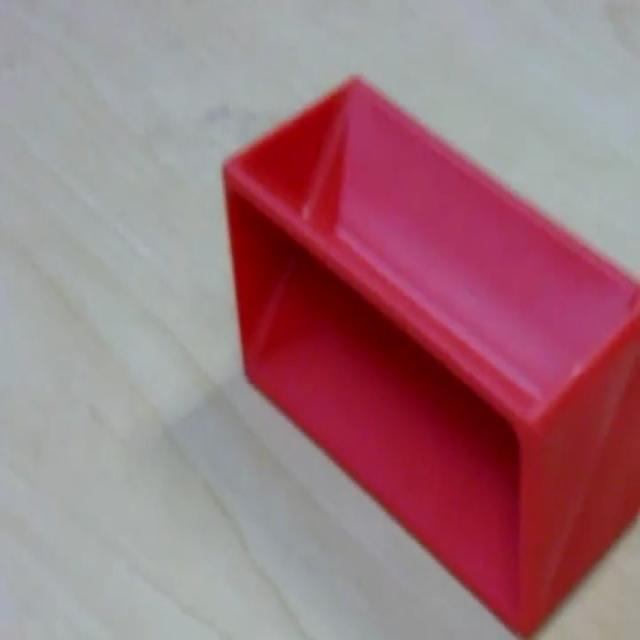red_block: (220, 72, 638, 635)
